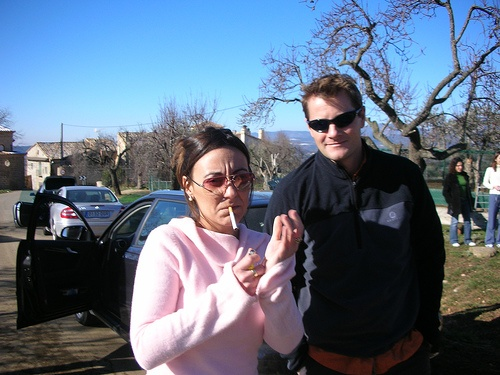head: (181, 127, 254, 234), (297, 70, 371, 167), (449, 154, 466, 176)
person: (264, 69, 447, 374), (125, 110, 307, 375), (441, 157, 473, 245), (480, 151, 499, 249)
